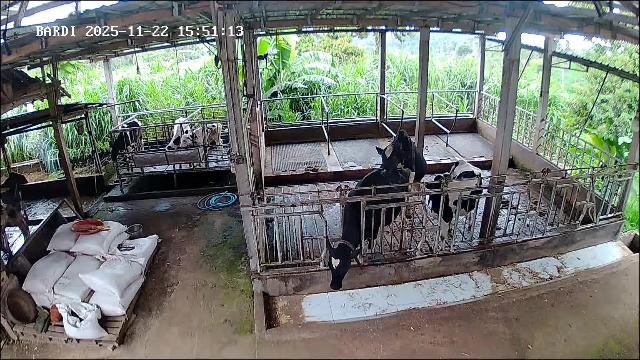mounting: (375, 130, 427, 219)
